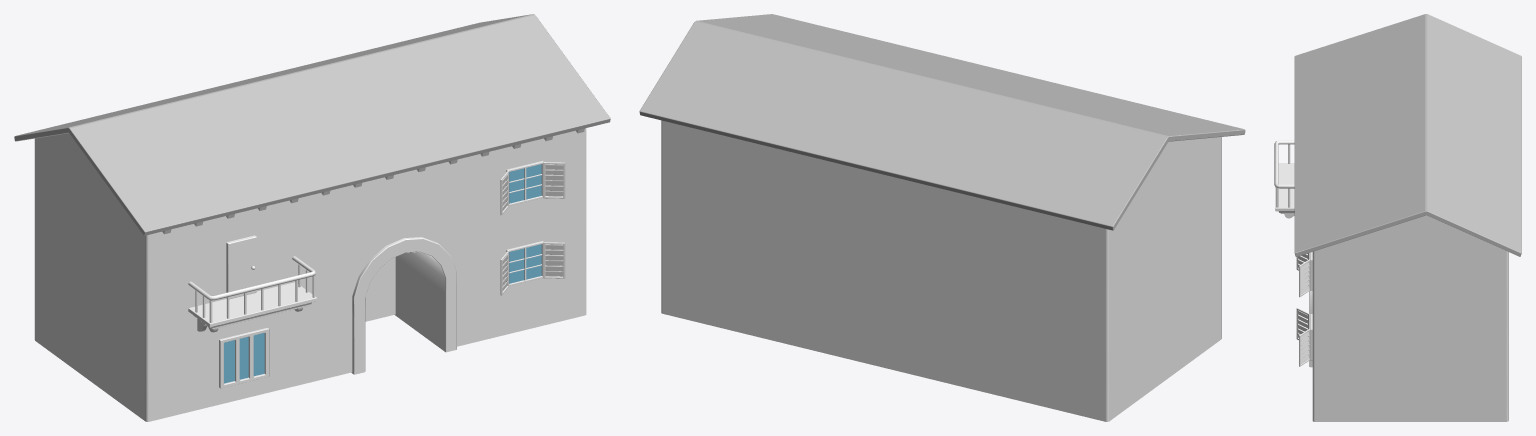
File: BackgroundBuilding2.fbx
3 views of the same model, side by side, from view 1: azimuth 30°, elevation 25°; view 2: azimuth 150°, elevation 25°; view 3: azimuth 270°, elevation 25° (orthographic). The views are drawn at different scales.
Parts seen in each view (by area): view 1: Cylinder.003; view 2: Cylinder.003; view 3: Cylinder.003.
Boxes of the visible parts, bbox=[...] form: Cylinder.003: bbox=[14, 14, 610, 421]; Cylinder.003: bbox=[639, 14, 1245, 421]; Cylinder.003: bbox=[1274, 14, 1521, 421].
Size of the model in its own units: 1904 by 978 by 1007.
